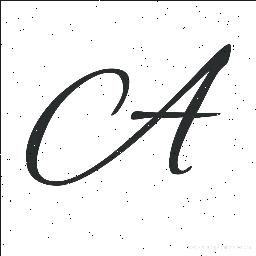a: (102, 28, 238, 184)
